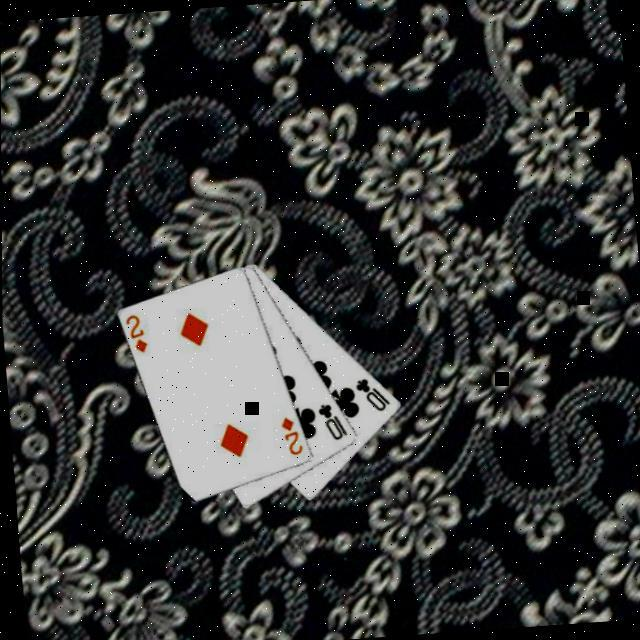10C: (350, 372, 392, 415), (312, 398, 348, 443)
2D: (120, 309, 150, 355), (276, 412, 305, 458)
